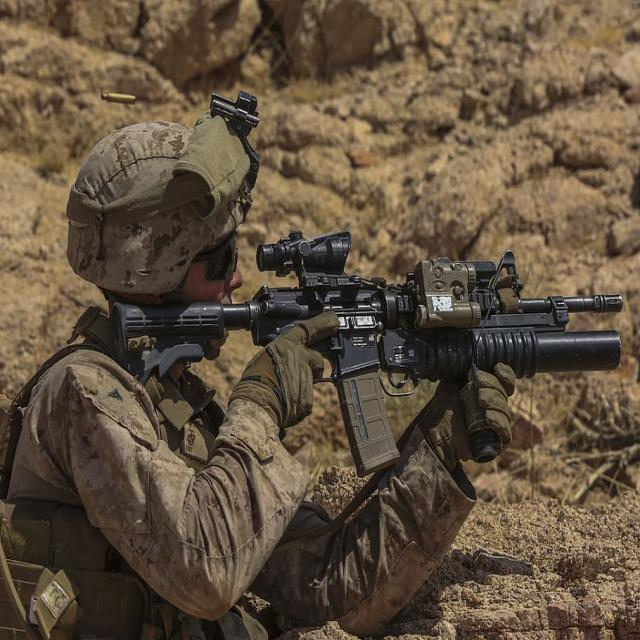soldier: (3, 86, 626, 640)
